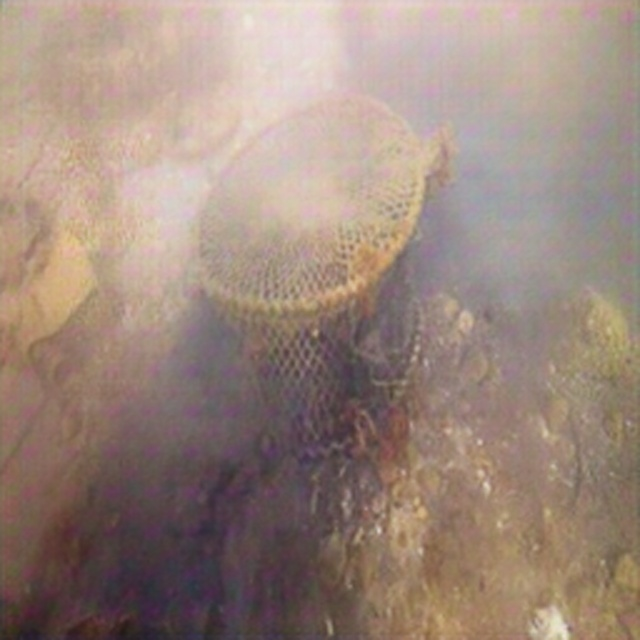mine: (190, 94, 425, 460)
